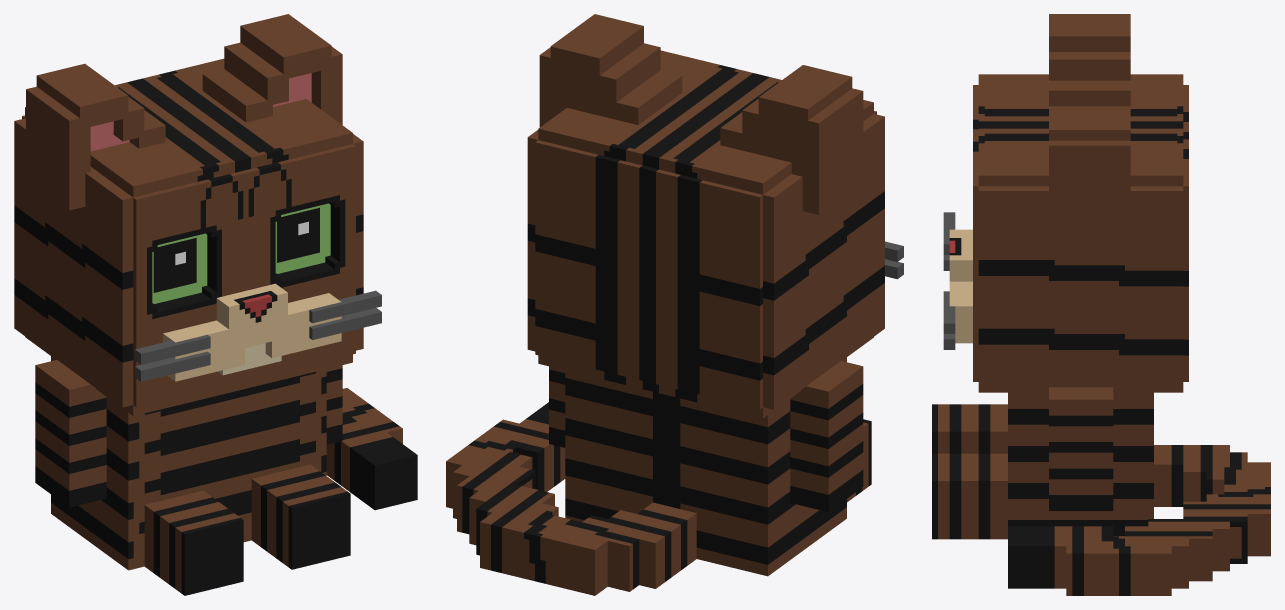
File: fiora.glb
The picture shows the model from 3 angles, left to right: view 1: azimuth 30°, elevation 25°; view 2: azimuth 150°, elevation 25°; view 3: azimuth 270°, elevation 25°; orthographic projection. The views are drawn at different scales.
Parts seen in each view (by area): view 1: Gato Preto; view 2: Gato Preto; view 3: Gato Preto.
Boxes of the visible parts, left/top/right/bottom form: Gato Preto: left=14, top=14, right=417, bottom=595; Gato Preto: left=446, top=14, right=903, bottom=595; Gato Preto: left=932, top=14, right=1270, bottom=595.
Bounding box in the file's own units: 6.4 × 8.1 × 5.8.
1 material, 1 textured.
